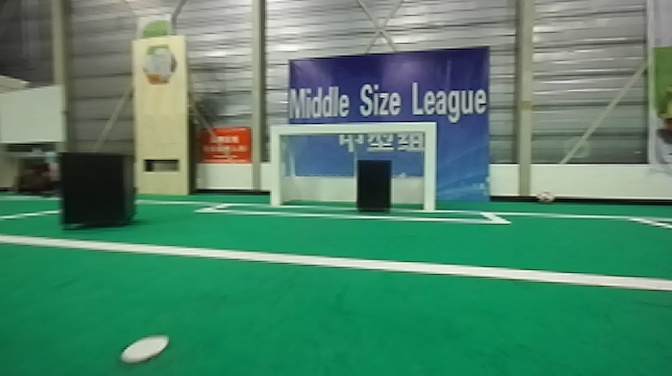ball: (539, 186, 557, 202)
goalpost: (421, 123, 441, 220), (268, 128, 286, 206)
